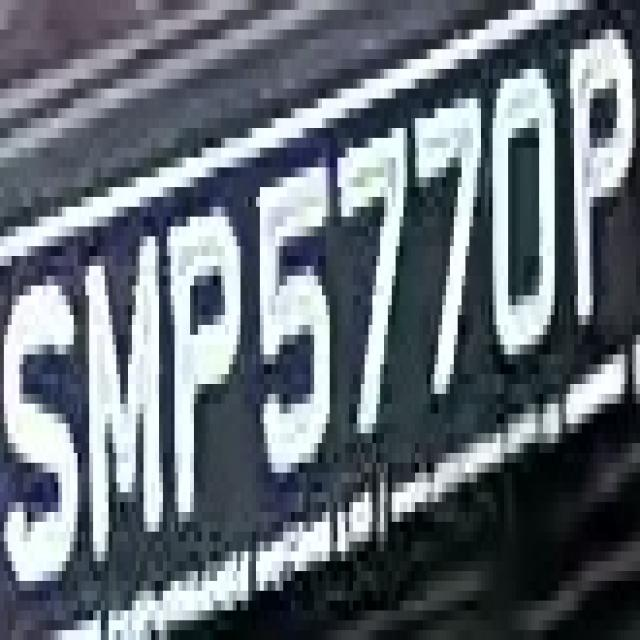0: (481, 79, 570, 364)
5: (252, 118, 338, 492)
7: (318, 118, 415, 473), (407, 69, 485, 433)
M: (74, 226, 170, 562)
P: (163, 177, 256, 542), (558, 0, 640, 374)
S: (8, 227, 81, 610)
